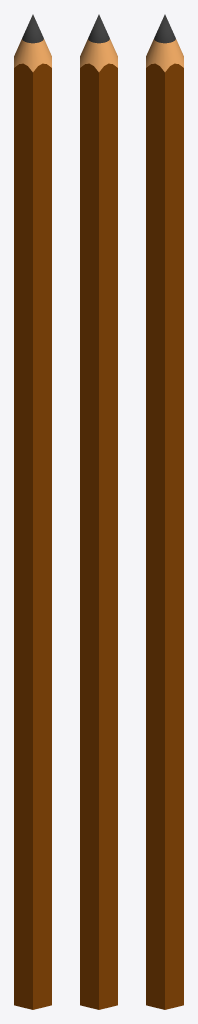
The model's file is potlood.fbx.
The picture shows the model from 3 angles, left to right: view 1: azimuth 30°, elevation 25°; view 2: azimuth 210°, elevation 25°; view 3: azimuth 270°, elevation 25°; orthographic projection.
Visible parts, largest first — view 1: Model; view 2: Model; view 3: Model.
Boxes of the visible parts, x1,y1,x2,y2 form: Model: (14, 14, 51, 1009); Model: (80, 14, 117, 1009); Model: (146, 14, 183, 1009).
Size of the model in its own units: 80 by 2000 by 69.28.
